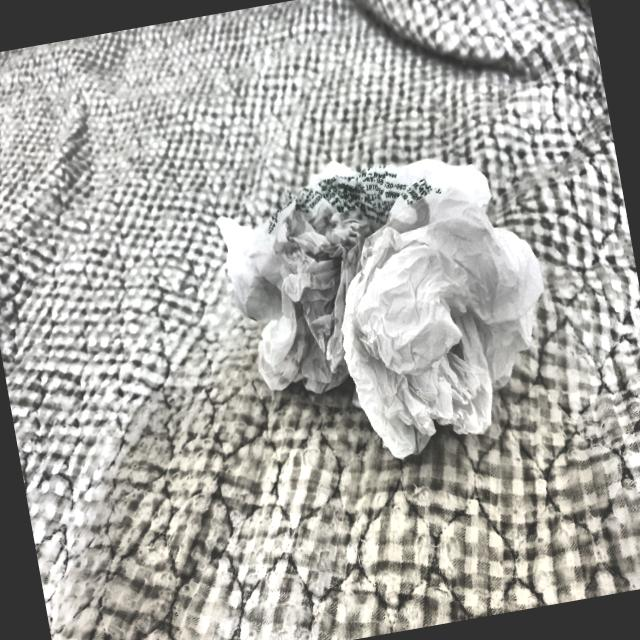plastic bag: (191, 113, 580, 491)
